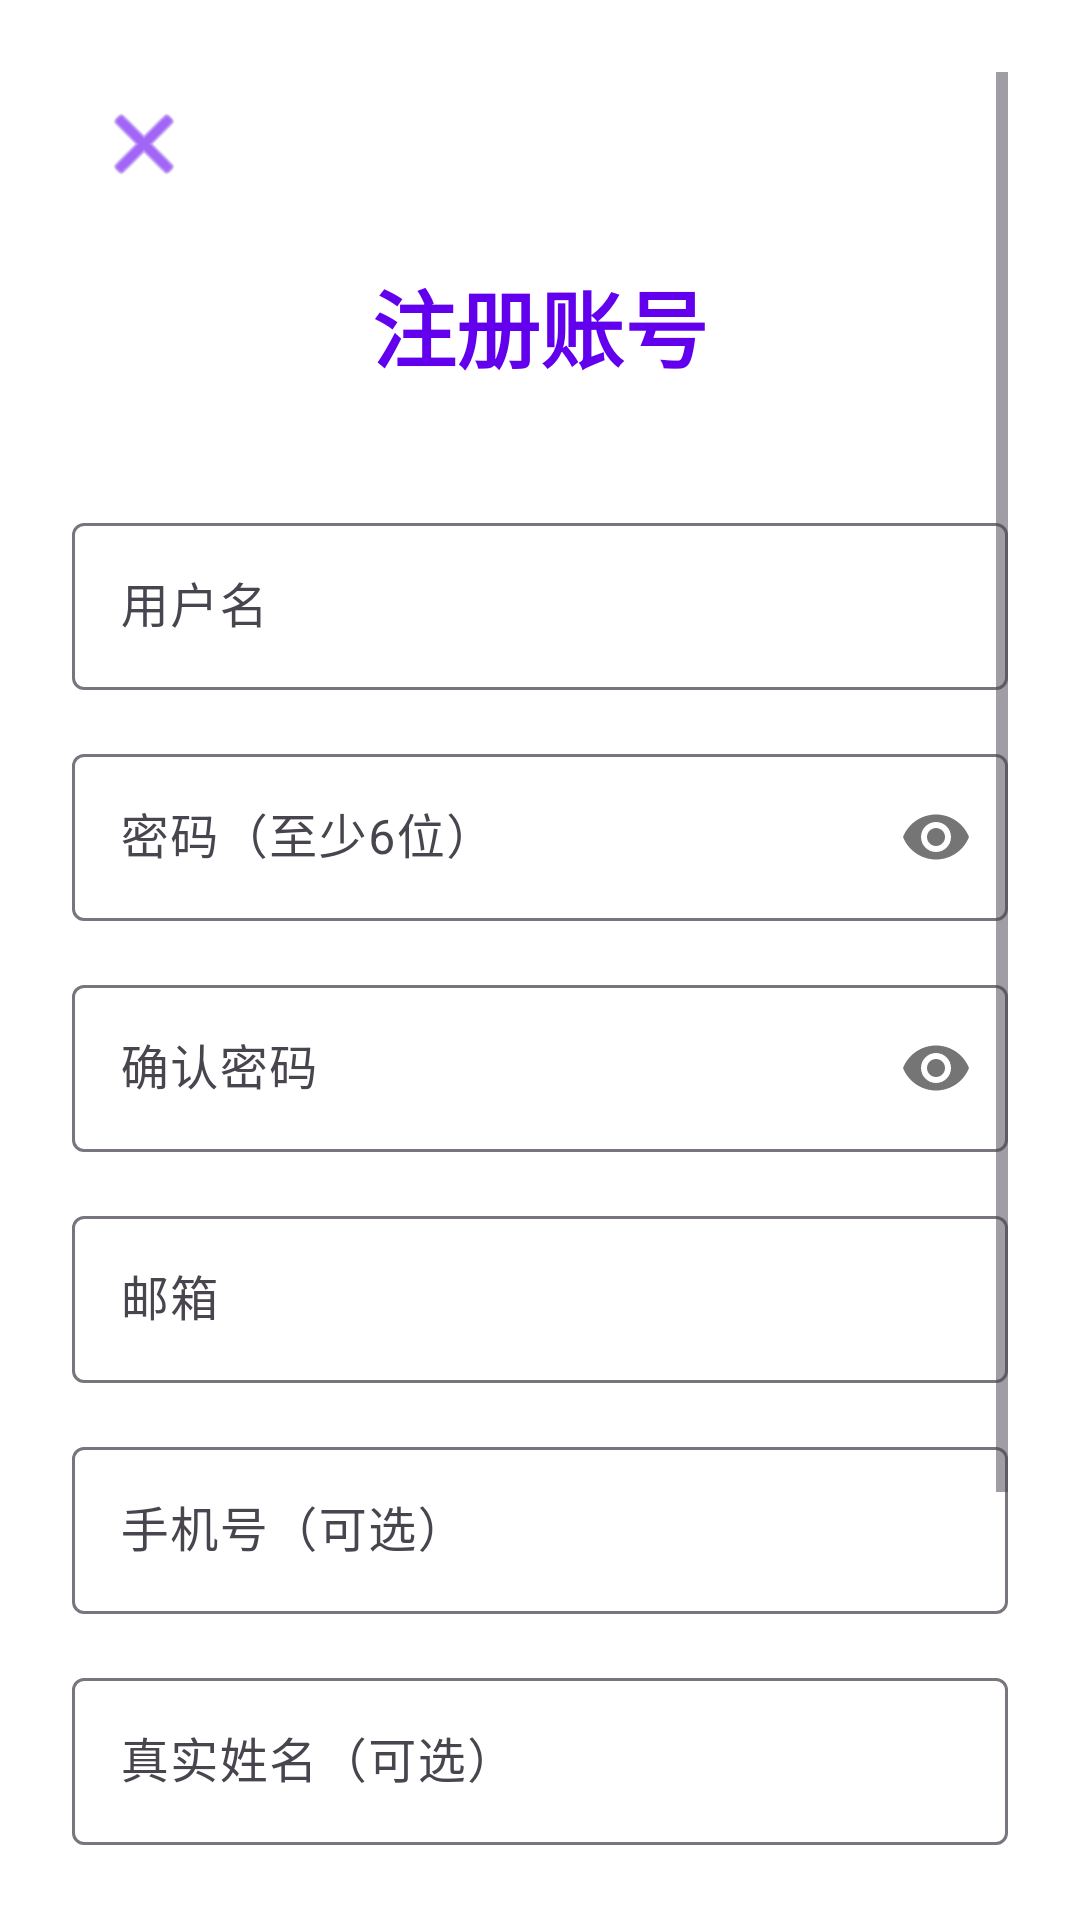

Screen size 1080*1920. Icon name, then its box in pixels as (x1, y1, x2, y2):
close clear cancel: (114, 114, 174, 174)
